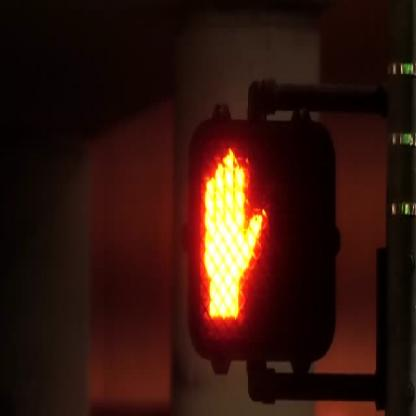Don-t Walk: (189, 122, 333, 358)
